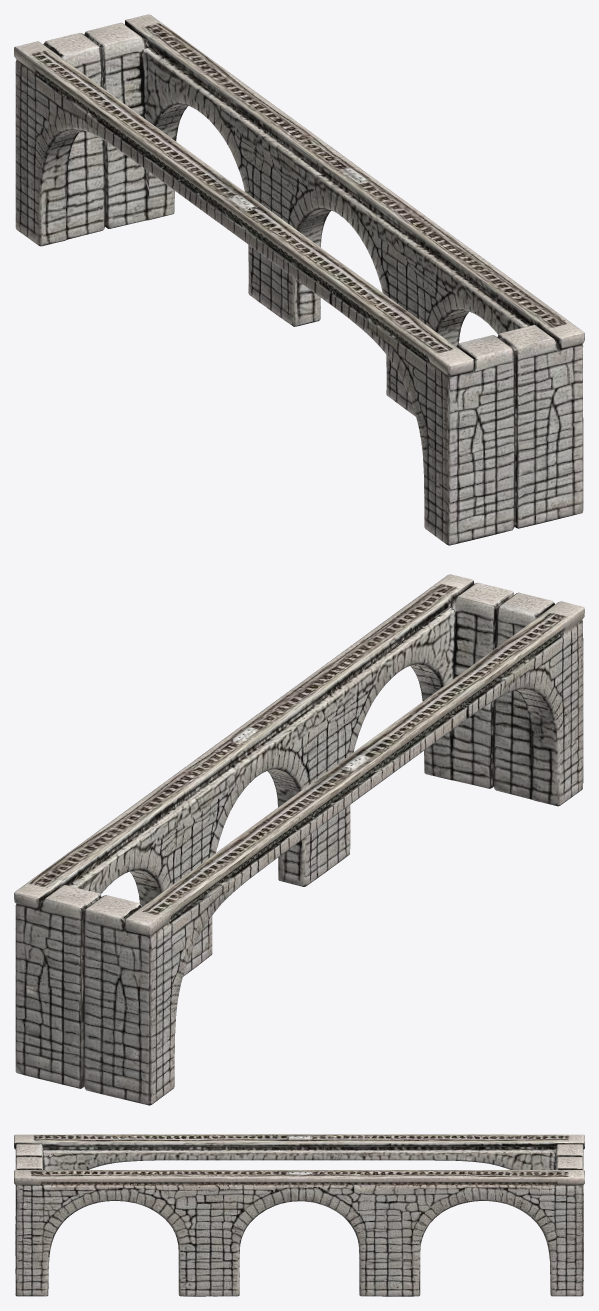
Rendered from bridge.glb.
The picture shows the model from 3 angles, top to bottom: view 1: azimuth 30°, elevation 25°; view 2: azimuth 150°, elevation 25°; view 3: azimuth 270°, elevation 25°; orthographic projection. The views are drawn at different scales.
Parts seen in each view (by area): view 1: bridge; view 2: bridge; view 3: bridge.
Part boxes in pixels (x1,y1,x2,y2): bridge: (14, 14, 584, 545); bridge: (14, 574, 584, 1105); bridge: (14, 1134, 584, 1296).
Bounding box in the file's own units: 0.7809 × 1 × 4.29.
Materials: 1 (1 with a texture image).
